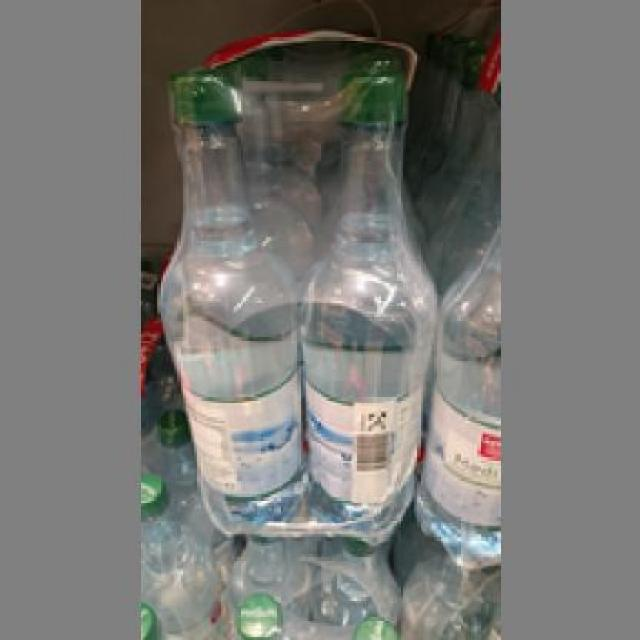Water: (288, 53, 432, 550), (154, 66, 303, 526)
